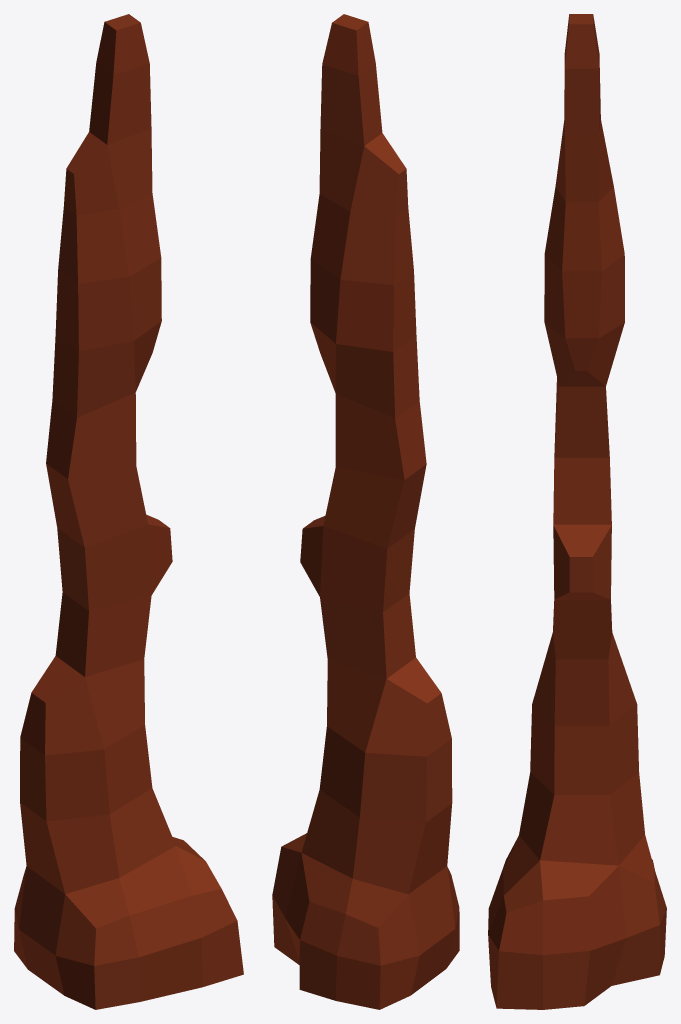
The model's file is powerhub.glb.
3 views of the same model, side by side, from view 1: azimuth 30°, elevation 25°; view 2: azimuth 150°, elevation 25°; view 3: azimuth 270°, elevation 25° (orthographic).
Parts seen in each view (by area): view 1: Mball.012; view 2: Mball.012; view 3: Mball.012.
Part boxes in pixels (x1,y1,x2,y2): Mball.012: (14,14,243,1009); Mball.012: (272,14,459,1009); Mball.012: (488,14,666,1009).
Size of the model in its own units: 1.45 by 7.54 by 1.28.
